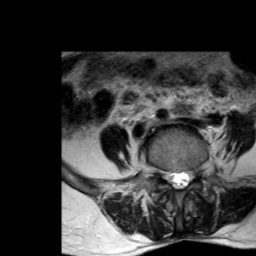CCS_normal: (175, 158, 183, 197)
LFS_normal: (192, 158, 200, 185)
LLS_normal: (183, 161, 192, 192)
RFS_normal: (158, 158, 167, 187)
RLS_normal: (167, 161, 175, 193)
